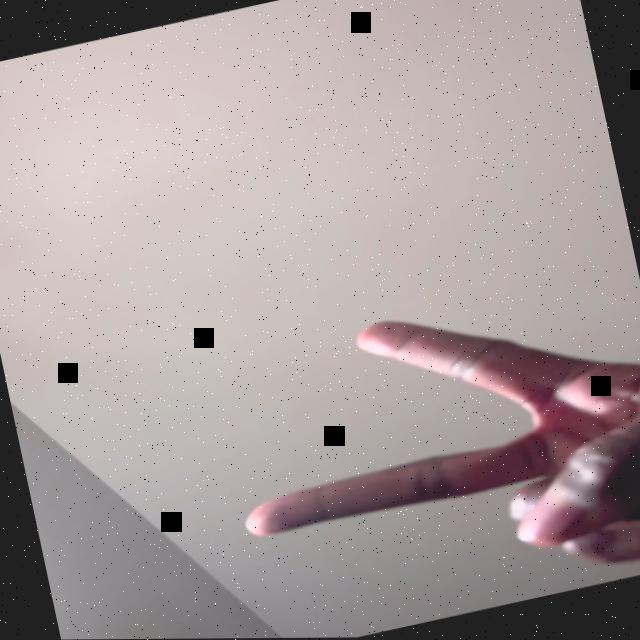Scissors: (204, 261, 640, 639)
